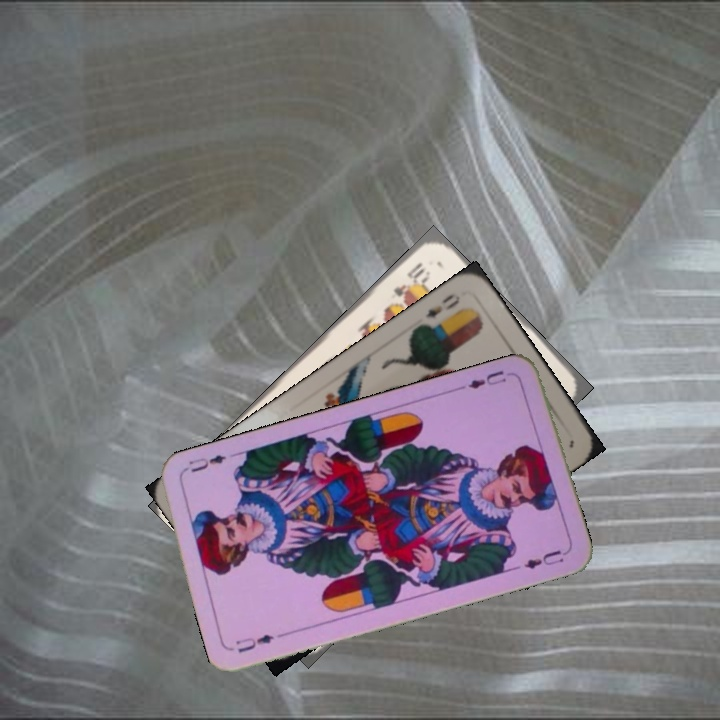E10: (389, 257, 432, 301)
EO: (416, 289, 463, 332)
EU: (231, 628, 289, 656), (464, 366, 509, 392)
